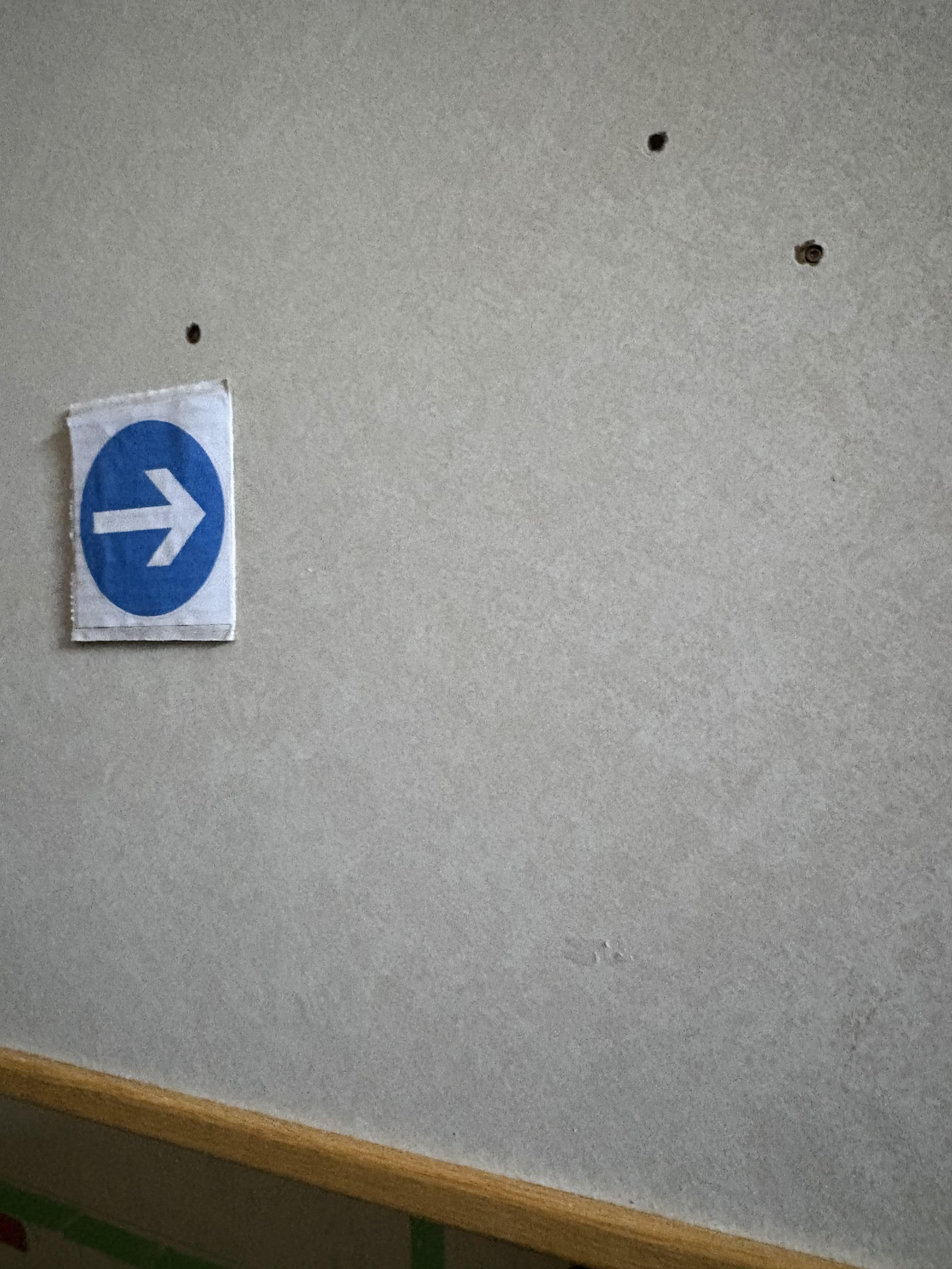Proceed Right: (63, 380, 235, 660)
